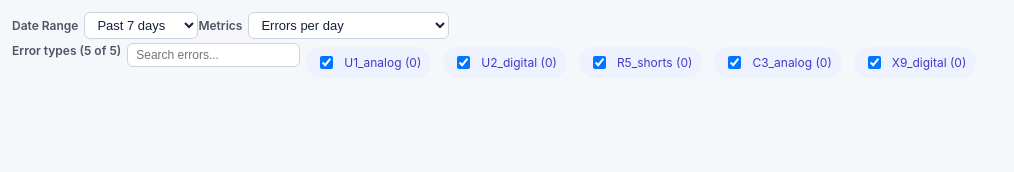
Test: ErrorSearchList (U5) › shows all errors when search is cleared
Type "analog" into the field with placeholder "Search errors..." at (214,55), box [127, 43, 300, 67]
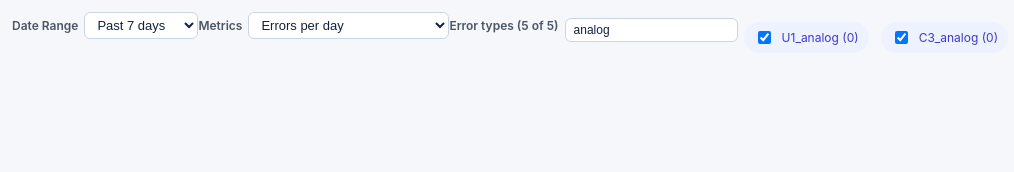
Clear the field with placeholder "Search errors..." at (651,30), box [565, 18, 738, 42]
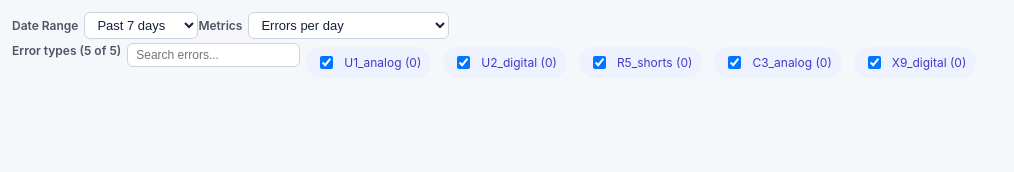
Expected: the text "U2_digital (0)" is shown, [481, 55, 557, 70]
Expected: the text "R5_shorts (0)" is shown, [617, 55, 692, 70]
Expected: the text "X9_digital (0)" is shown, [892, 55, 966, 70]
